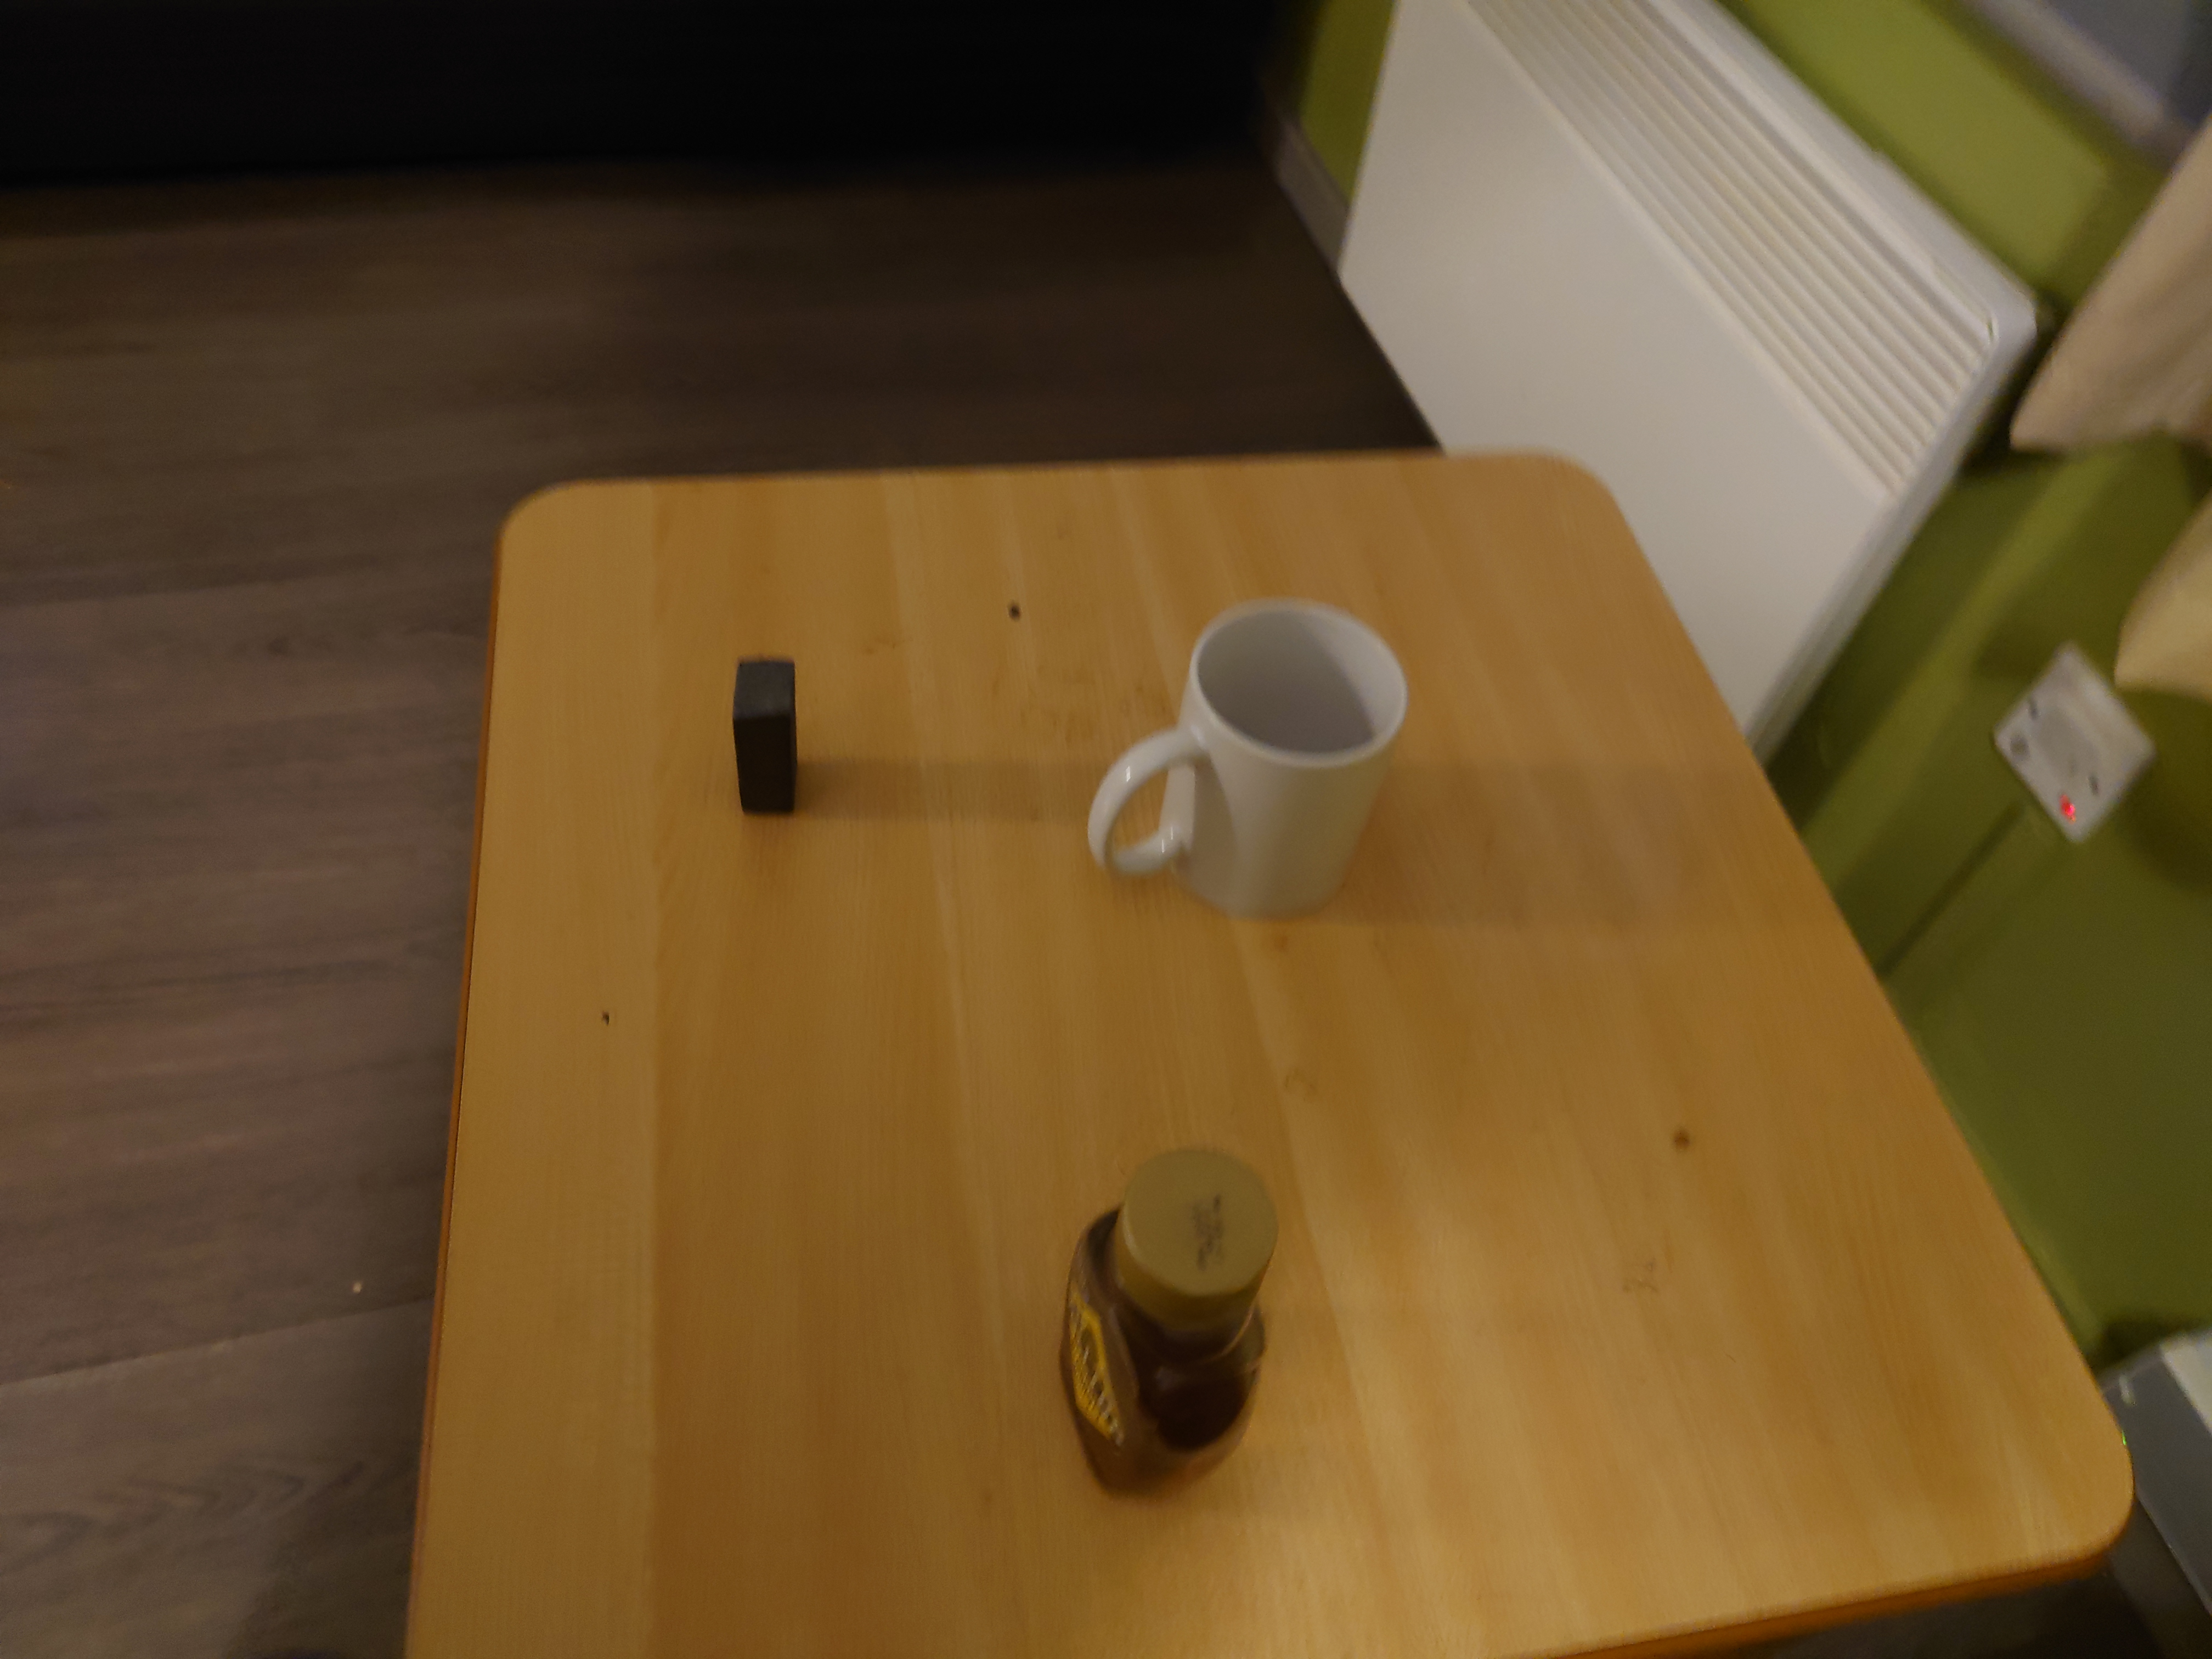cup: (1085, 594, 1413, 918)
target: (732, 652, 799, 810)
